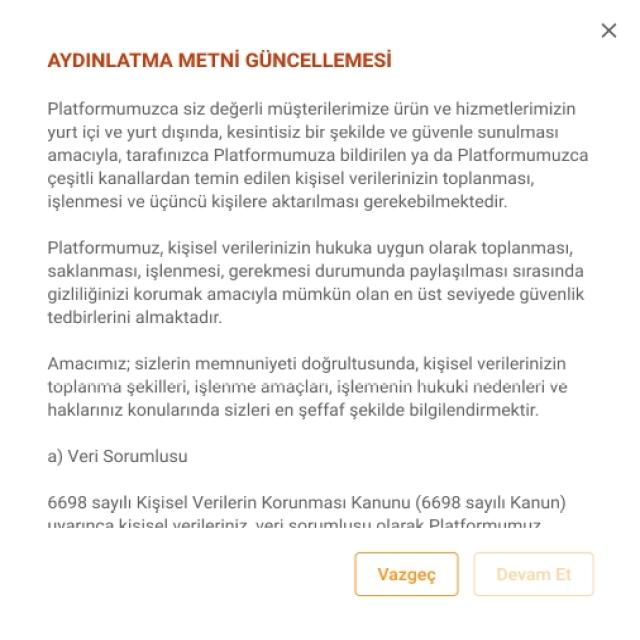QLabel: (45, 100, 590, 212), (44, 236, 588, 331), (44, 353, 570, 424), (43, 492, 570, 532), (43, 48, 400, 70), (42, 444, 190, 468), (490, 562, 579, 588), (371, 563, 438, 586)
VBtn: (472, 552, 596, 596), (354, 553, 461, 599)
VDialog: (0, 0, 640, 640)
VIcon: (592, 15, 623, 48)
